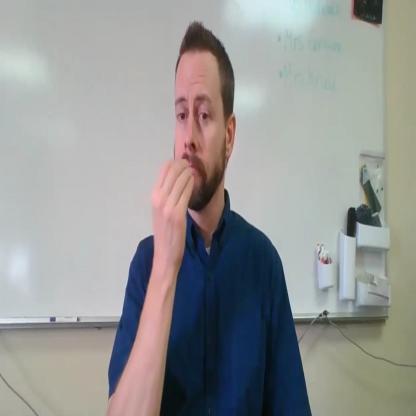Food: (146, 17, 250, 261)
